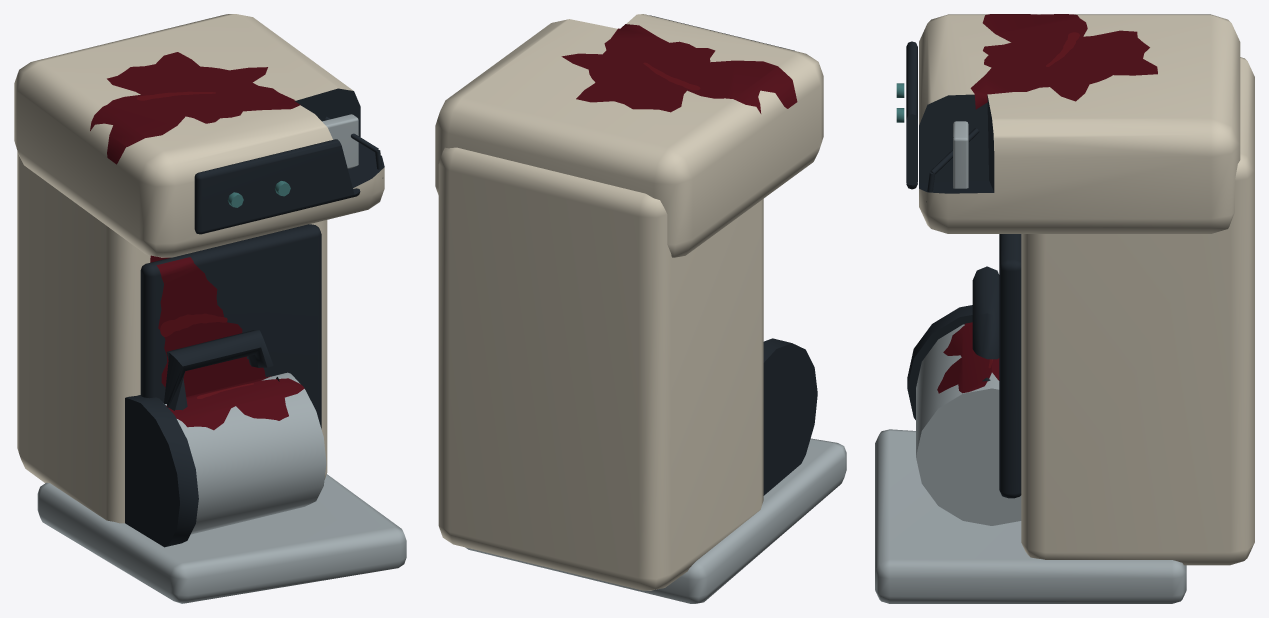
File: coffee_machine.glb
3 renders of one model, left to right at view 1: azimuth 30°, elevation 25°; view 2: azimuth 150°, elevation 25°; view 3: azimuth 270°, elevation 25°, orthographic. The views are drawn at different scales.
Visible parts, largest first — view 1: Outbreak_11_standard_coffee_machine_Static; view 2: Outbreak_11_standard_coffee_machine_Static; view 3: Outbreak_11_standard_coffee_machine_Static.
Boxes of the visible parts, x1=… form: Outbreak_11_standard_coffee_machine_Static: x1=14, y1=14, x2=406, y2=603; Outbreak_11_standard_coffee_machine_Static: x1=435, y1=14, x2=846, y2=603; Outbreak_11_standard_coffee_machine_Static: x1=875, y1=14, x2=1254, y2=603.
Bounding box in the file's own units: 0.31 × 0.5457 × 0.39.
